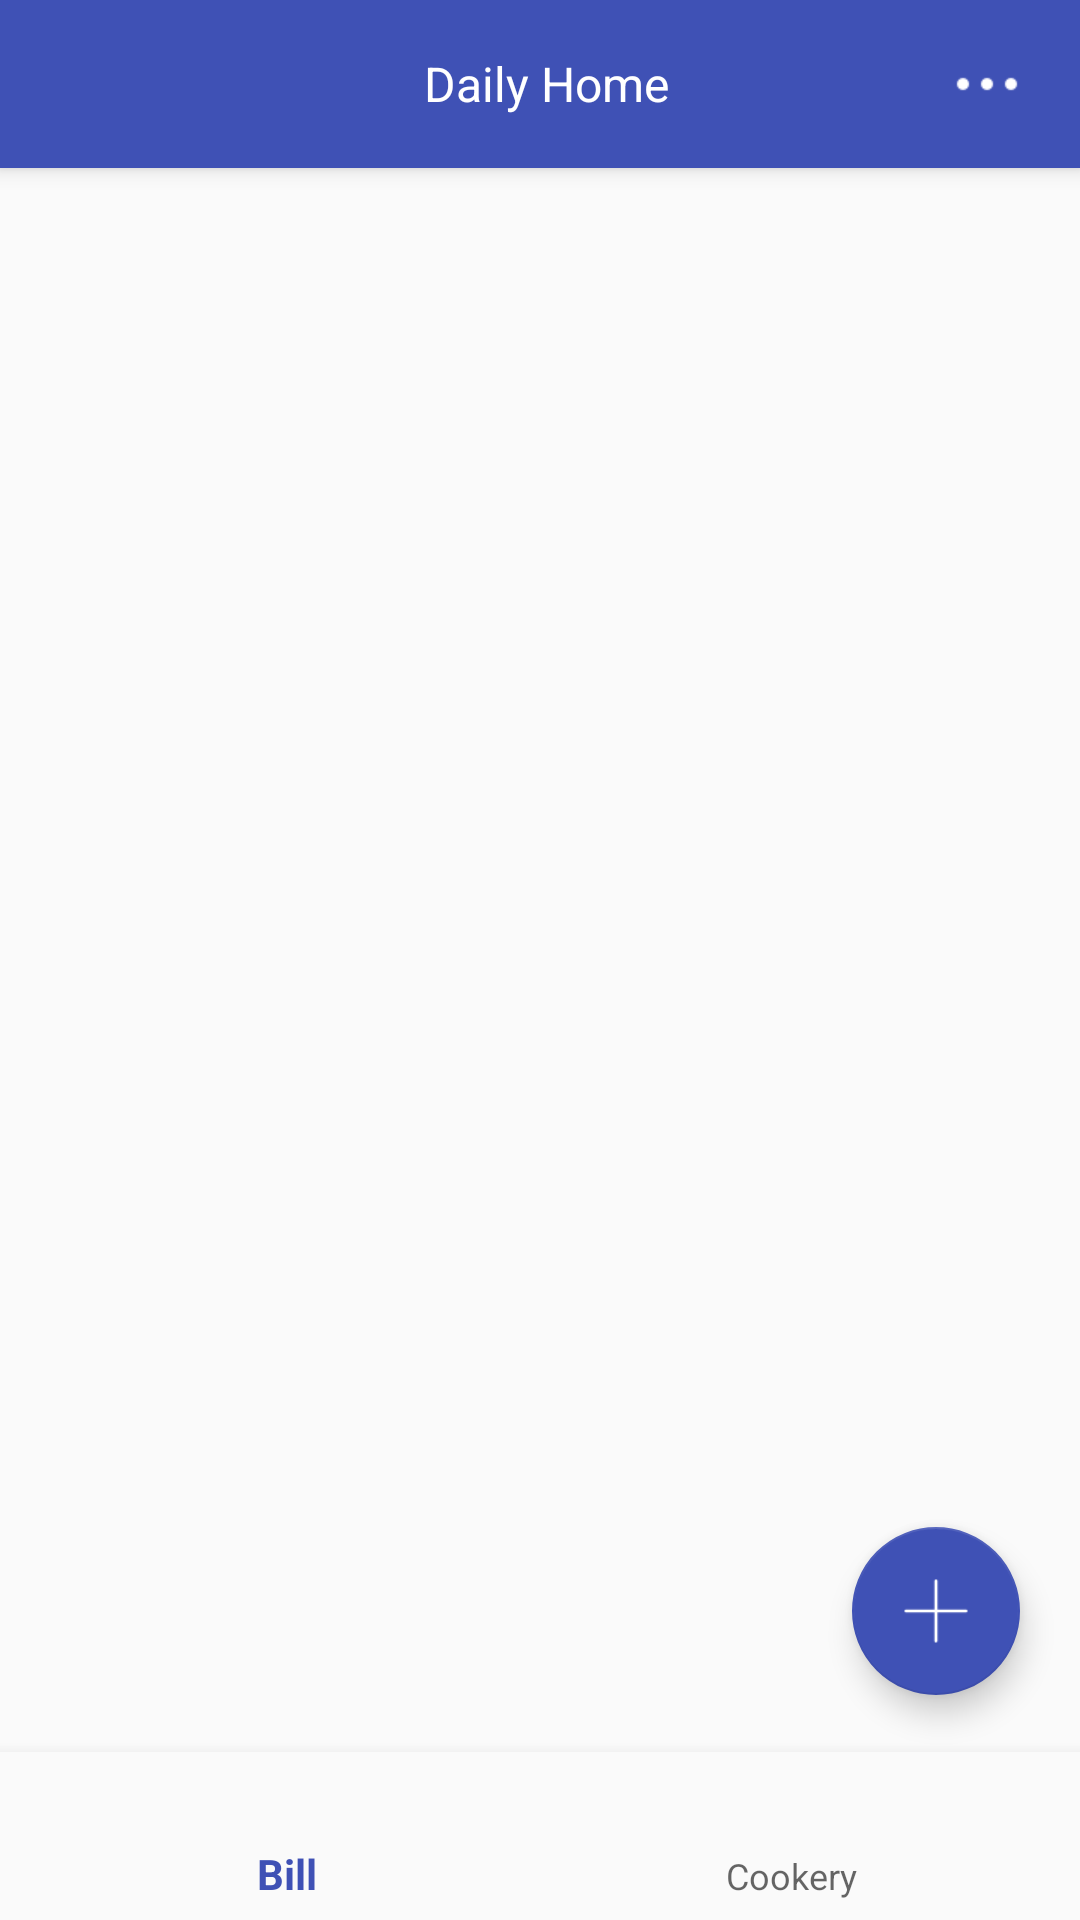

Icons on this 1080px x 1920px Android screen, each with its box as [x1=x1, y1=y1, x2=x2, y2=y2]:
add: [x1=852, y1=1527, x2=1020, y2=1695]
top bar more: [x1=956, y1=77, x2=1018, y2=91]
